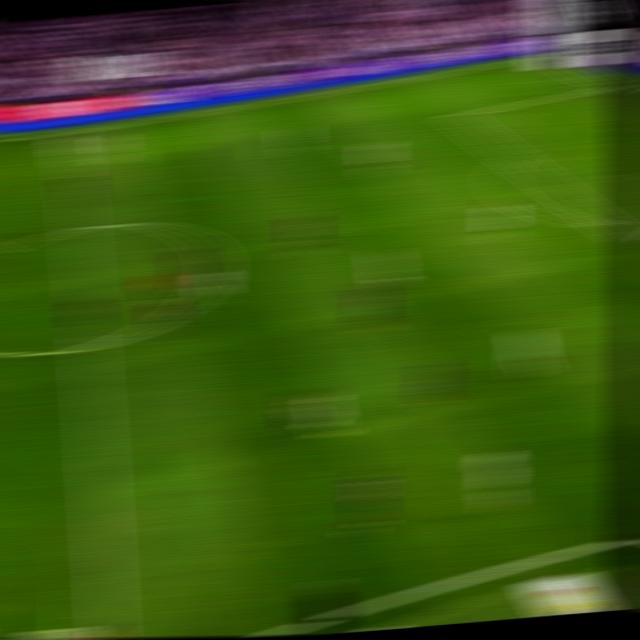bigarea_top_inner: (444, 107, 468, 122)
bigarea_top_outter: (595, 76, 622, 90)
bottom_arc_area_intersection: (590, 213, 619, 232)
halfcircle_bottom: (72, 334, 103, 358)
halfcircle_top: (62, 217, 93, 240)
midline_top_intersection: (58, 124, 84, 137)
smallarea_top_inner: (612, 121, 633, 131)
top_arc_area_intersection: (499, 148, 526, 164)
